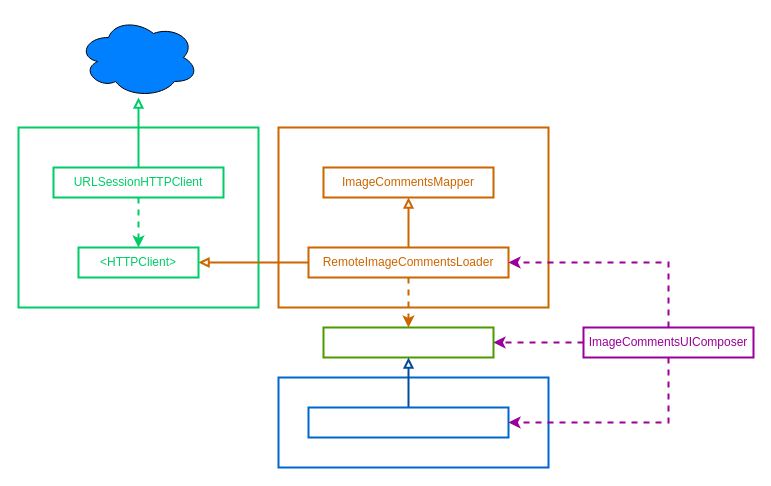
Image size: 771x486. Some labels were removed from this diagram. Each missing label, with the centre of its shape:
"<ImageCommentsLoader>" belongs at (x=408, y=342).
"ImageCommentsViewController" belongs at (x=408, y=422).
